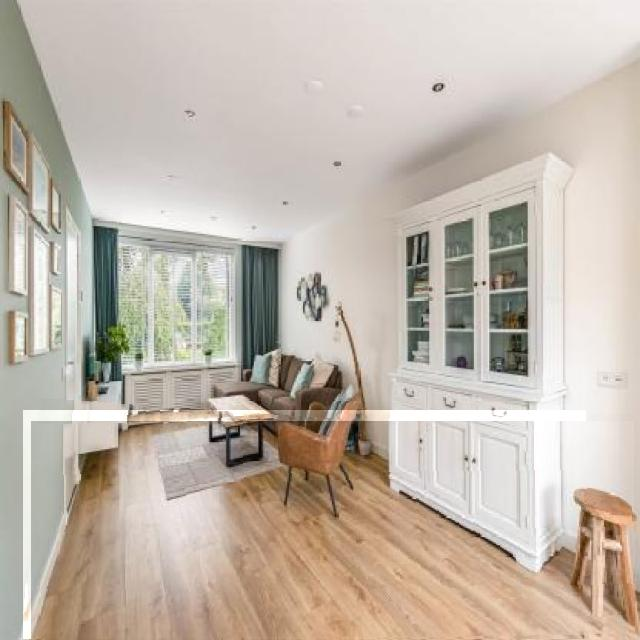floor: (31, 422, 634, 640), (24, 411, 586, 640)
